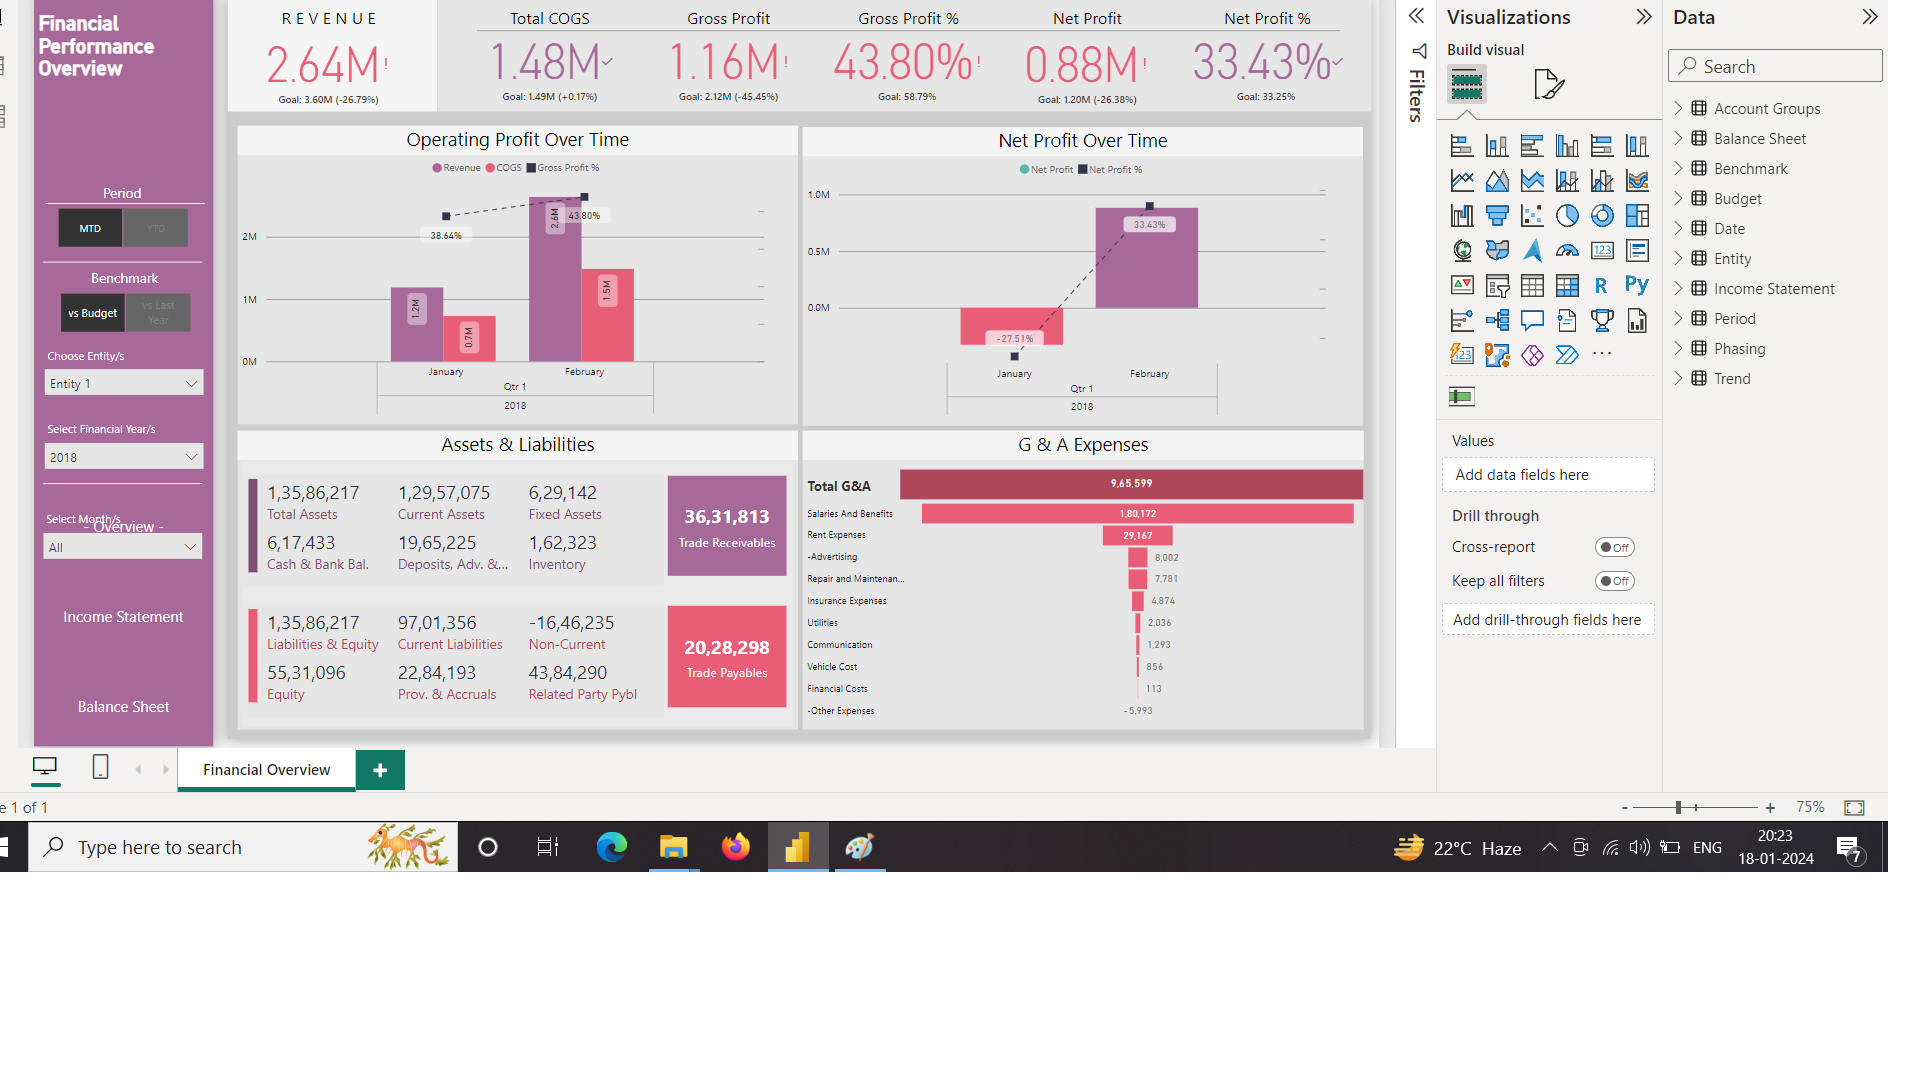

Layout of this report page (visuals, bound fields, positions):
{"tool":"powerbi","page":{"name":"Financial Overview","canvas":[1440,810],"ordinal":0},"visuals":[{"type":"shape","box":[208,8,1224,792],"z":0},{"type":"shape","box":[0,0,192,808],"z":1000},{"type":"shape","box":[208,8,224,120],"z":2000},{"type":"shape","box":[432,8,1000,120],"z":3000},{"type":"textbox","title":"|   Trend                                                                                                                      Phasing   |","box":[600,144,824,648],"z":6000},{"type":"lineClusteredColumnComboChart","title":"|","fields":{"Category":["Date Table.Date.Variation.Date Hierarchy.Year","Date Table.Date.Variation.Date Hierarchy.Quarter","Date Table.Date.Variation.Date Hierarchy.Month"],"Y":["Trend.Actuals","Trend.Budget/LY"],"Y2":["Phasing.Profit %","Phasing.Budget/LY Profit %"]},"box":[600,232,824,560],"z":7000},{"type":"slicer","title":"Phasing   |","fields":{"Values":["Phasing.Phasing"]},"box":[1188,171.7,221.7,53],"z":8000},{"type":"slicer","title":"|   Trend","fields":{"Values":["Trend.Trend"]},"box":[609.2,171.7,220.7,53],"z":9000},{"type":"funnel","title":"|   KPI Funnel","fields":{"Y":["Income Statement.Revenue","Income Statement.COGS","Income Statement.Gross Profit","Income Statement.Expense","Income Statement.Net Profit"]},"box":[216,144,376,648],"z":10000},{"type":"basicShape","box":[464.6,30,944,24],"z":21000},{"type":"kpi","title":"Net Profit %","fields":{"TrendLine":["Date Table.Date"],"Goal":["Comparison.Target Net Profit %"],"Indicator":["Income Statement.Net Profit %"]},"box":[1232.6,16,176,112],"z":22000},{"type":"kpi","title":"Net Profit","fields":{"TrendLine":["Date Table.Date"],"Goal":["Comparison.Target Net Profit"],"Indicator":["Income Statement.Net Profit"]},"box":[1040.6,16,176,112],"z":23000},{"type":"kpi","title":"Gross Profit %","fields":{"TrendLine":["Date Table.Date"],"Goal":["Comparison.Target Gross Profit %"],"Indicator":["Income Statement.Gross Profit %"]},"box":[848.6,16,176,112],"z":24000},{"type":"kpi","title":"Gross Profit","fields":{"TrendLine":["Date Table.Date"],"Goal":["Comparison.Target Gross Profit"],"Indicator":["Income Statement.Gross Profit"]},"box":[656.6,16,176,112],"z":25000},{"type":"kpi","title":"Total COGS","fields":{"TrendLine":["Date Table.Date"],"Goal":["Comparison.Target COGS"],"Indicator":["Income Statement.COGS"]},"box":[464.6,16,176,112],"z":26000},{"type":"kpi","title":"R E V E N U E","fields":{"TrendLine":["Date Table.Date"],"Goal":["Comparison.Target Revenue"],"Indicator":["Income Statement.Revenue"]},"box":[208,16,216,112],"z":27000},{"type":"actionButton","box":[0,744,192,40],"z":29000},{"type":"actionButton","box":[0,693.5,191.5,40.2],"z":32000},{"type":"actionButton","box":[0,640,191.5,40.2],"z":33000},{"type":"basicShape","box":[0,517.1,190,16.3],"z":35000},{"type":"slicer","fields":{"Values":["Calender-Date.Month"]},"box":[0,551.6,190.1,79],"z":36000},{"type":"slicer","fields":{"Values":["Calender-Date.Year"]},"box":[1.3,455.2,190.1,77.7],"z":37000},{"type":"slicer","fields":{"Values":["Entity.Entity"]},"box":[1.3,376.2,190.1,79],"z":38000},{"type":"basicShape","box":[0,280.2,190,15.8],"z":39000},{"type":"slicer","title":"Benchmark","fields":{"Values":["Benchmark.Benchmark"]},"box":[2.7,295.9,188.8,75],"z":40000},{"type":"slicer","title":"Period","fields":{"Values":["Period.Period"]},"box":[0,204.8,188.8,75],"z":41000},{"type":"basicShape","box":[2.7,216.9,190.1,16.1],"z":42000},{"type":"actionButton","box":[414,142.2,178.5,31.4],"z":43000},{"type":"textbox","box":[0,16.1,162,112.5],"z":44001}]}

Visuals, with their boxes on the page's 1440x810 design canvas (x1, y1, x2, y2). These are canvas units, not pixel positions in the 1920x1080 screenshot, which may show the page scaled, cropped or inside an application window:
shape: bbox=[208, 8, 1432, 800]
shape: bbox=[0, 0, 192, 808]
shape: bbox=[208, 8, 432, 128]
shape: bbox=[432, 8, 1432, 128]
"|   Trend                                                                                                                      Phasing   |" textbox: bbox=[600, 144, 1424, 792]
"|" lineClusteredColumnComboChart: bbox=[600, 232, 1424, 792]
"Phasing   |" slicer: bbox=[1188, 172, 1410, 225]
"|   Trend" slicer: bbox=[609, 172, 830, 225]
"|   KPI Funnel" funnel: bbox=[216, 144, 592, 792]
basicShape: bbox=[465, 30, 1409, 54]
"Net Profit %" kpi: bbox=[1233, 16, 1409, 128]
"Net Profit" kpi: bbox=[1041, 16, 1217, 128]
"Gross Profit %" kpi: bbox=[849, 16, 1025, 128]
"Gross Profit" kpi: bbox=[657, 16, 833, 128]
"Total COGS" kpi: bbox=[465, 16, 641, 128]
"R E V E N U E" kpi: bbox=[208, 16, 424, 128]
actionButton: bbox=[0, 744, 192, 784]
actionButton: bbox=[0, 694, 192, 734]
actionButton: bbox=[0, 640, 192, 680]
basicShape: bbox=[0, 517, 190, 533]
slicer - Calender-Date.Month: bbox=[0, 552, 190, 631]
slicer - Calender-Date.Year: bbox=[1, 455, 191, 533]
slicer - Entity.Entity: bbox=[1, 376, 191, 455]
basicShape: bbox=[0, 280, 190, 296]
"Benchmark" slicer: bbox=[3, 296, 192, 371]
"Period" slicer: bbox=[0, 205, 189, 280]
basicShape: bbox=[3, 217, 193, 233]
actionButton: bbox=[414, 142, 592, 174]
textbox: bbox=[0, 16, 162, 129]
